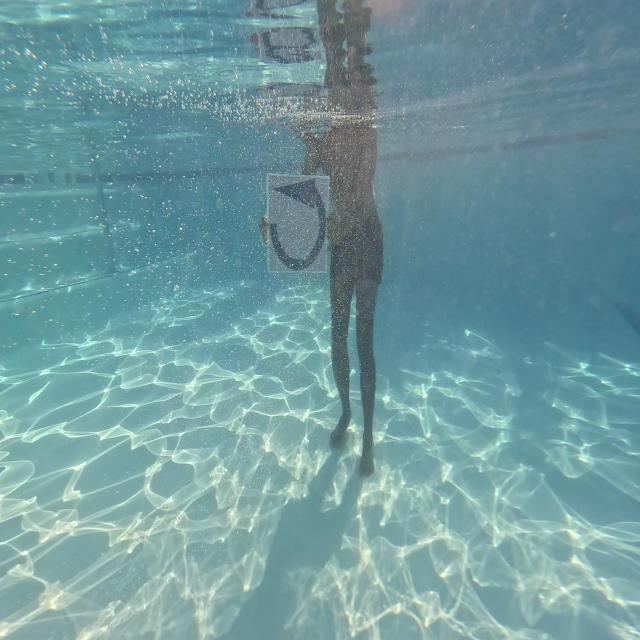blue_side: (266, 155, 322, 282)
